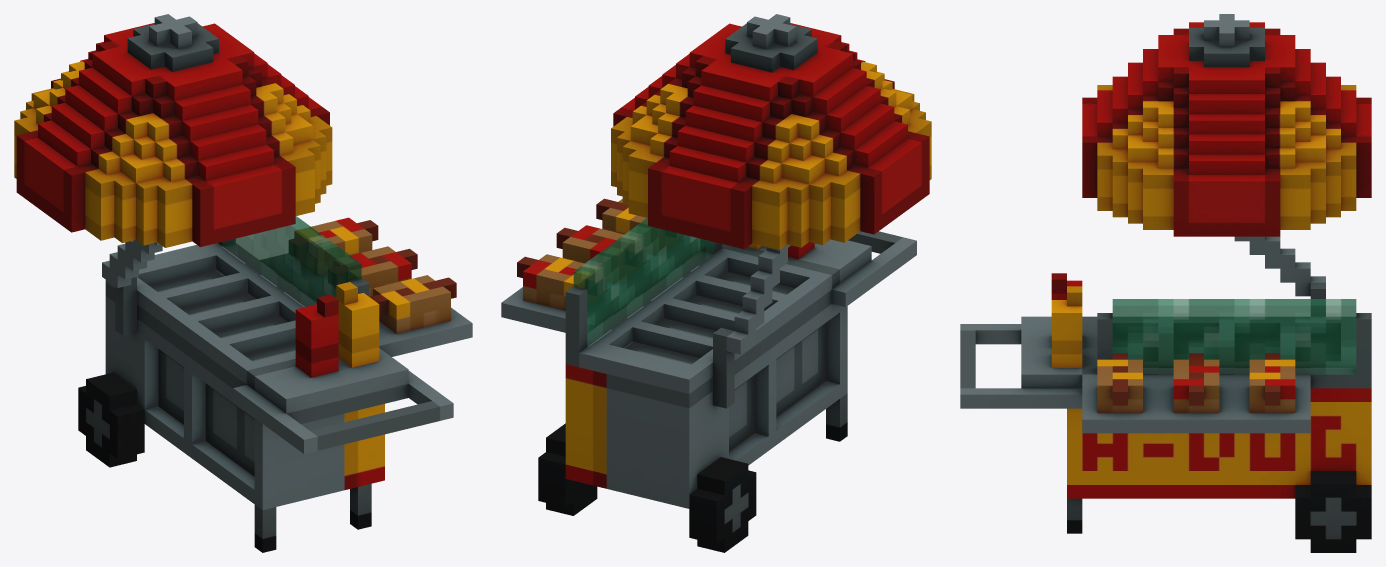
Rendered from hotdog.glb.
3 views of the same model, side by side, from view 1: azimuth 30°, elevation 25°; view 2: azimuth 150°, elevation 25°; view 3: azimuth 270°, elevation 25° (orthographic). The views are drawn at different scales.
Visible parts, largest first — view 1: Object_2; view 2: Object_2; view 3: Object_2.
Boxes of the visible parts, left/top/right/bottom form: Object_2: left=14, top=14, right=472, bottom=552; Object_2: left=501, top=14, right=931, bottom=552; Object_2: left=960, top=14, right=1371, bottom=552.
Size of the model in its own units: 2.6 by 3.3 by 2.7.
Materials: 1 (1 with a texture image).
